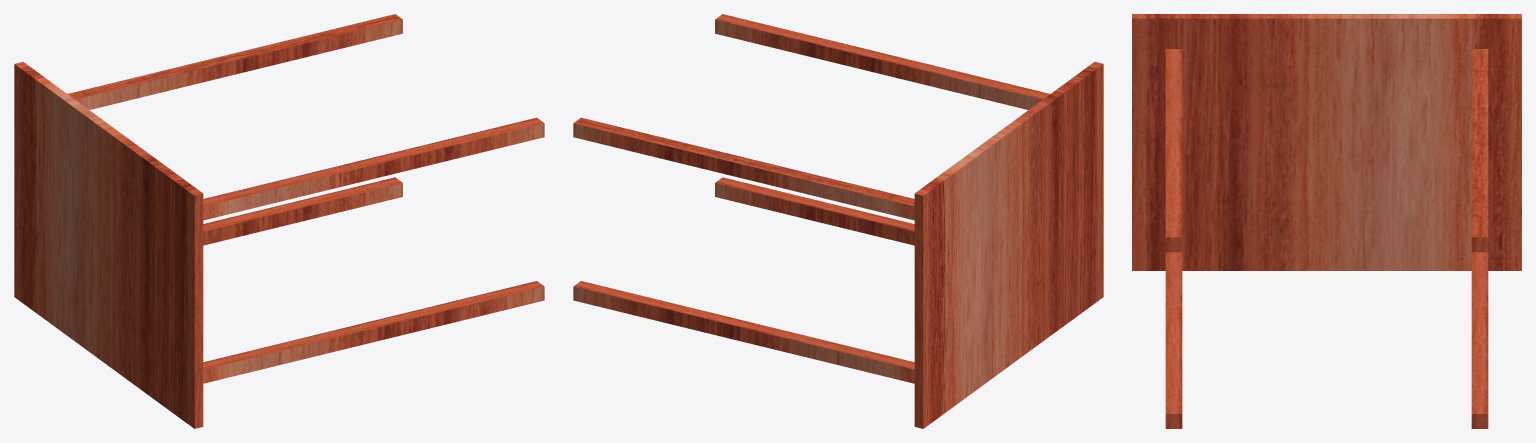
The model's file is table.DAE.
3 views of the same model, side by side, from view 1: azimuth 30°, elevation 25°; view 2: azimuth 150°, elevation 25°; view 3: azimuth 270°, elevation 25° (orthographic). The views are drawn at different scales.
Parts seen in each view (by area): view 1: stitch_result_stitchFBXASC032all-Pivot, stitch_result_stitchFBXASC032all_ncl1_2-Pivot, stitch_result_stitchFBXASC032all_ncl1_1-Pivot, stitch_result_stitchFBXASC032all_ncl1_3-Pivot, stitch_result_stitchFBXASC032all_ncl1_4-Pivot; view 2: stitch_result_stitchFBXASC032all-Pivot, stitch_result_stitchFBXASC032all_ncl1_3-Pivot, stitch_result_stitchFBXASC032all_ncl1_4-Pivot, stitch_result_stitchFBXASC032all_ncl1_2-Pivot, stitch_result_stitchFBXASC032all_ncl1_1-Pivot; view 3: stitch_result_stitchFBXASC032all-Pivot, stitch_result_stitchFBXASC032all_ncl1_2-Pivot, stitch_result_stitchFBXASC032all_ncl1_3-Pivot, stitch_result_stitchFBXASC032all_ncl1_1-Pivot, stitch_result_stitchFBXASC032all_ncl1_4-Pivot.
Boxes of the visible parts, box(x1,y1,x2,y2) form: stitch_result_stitchFBXASC032all-Pivot: box(14, 62, 203, 428); stitch_result_stitchFBXASC032all_ncl1_2-Pivot: box(203, 117, 544, 220); stitch_result_stitchFBXASC032all_ncl1_1-Pivot: box(203, 281, 544, 383); stitch_result_stitchFBXASC032all_ncl1_3-Pivot: box(68, 14, 402, 109); stitch_result_stitchFBXASC032all_ncl1_4-Pivot: box(203, 177, 402, 245); stitch_result_stitchFBXASC032all-Pivot: box(914, 62, 1103, 428); stitch_result_stitchFBXASC032all_ncl1_3-Pivot: box(573, 117, 914, 220); stitch_result_stitchFBXASC032all_ncl1_4-Pivot: box(573, 281, 914, 383); stitch_result_stitchFBXASC032all_ncl1_2-Pivot: box(715, 14, 1049, 109); stitch_result_stitchFBXASC032all_ncl1_1-Pivot: box(715, 177, 914, 245); stitch_result_stitchFBXASC032all-Pivot: box(1132, 14, 1521, 270); stitch_result_stitchFBXASC032all_ncl1_2-Pivot: box(1165, 49, 1182, 252); stitch_result_stitchFBXASC032all_ncl1_3-Pivot: box(1471, 49, 1488, 252); stitch_result_stitchFBXASC032all_ncl1_1-Pivot: box(1165, 252, 1182, 428); stitch_result_stitchFBXASC032all_ncl1_4-Pivot: box(1471, 252, 1488, 428).
Bounding box in the file's own units: 4.1 × 3.5 × 2.5.
Materials: 1 (1 with a texture image).
